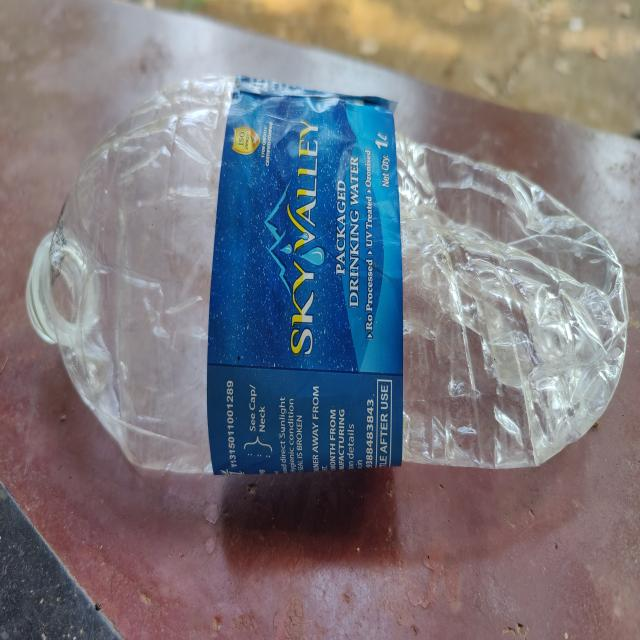plastic: (25, 74, 632, 484)
